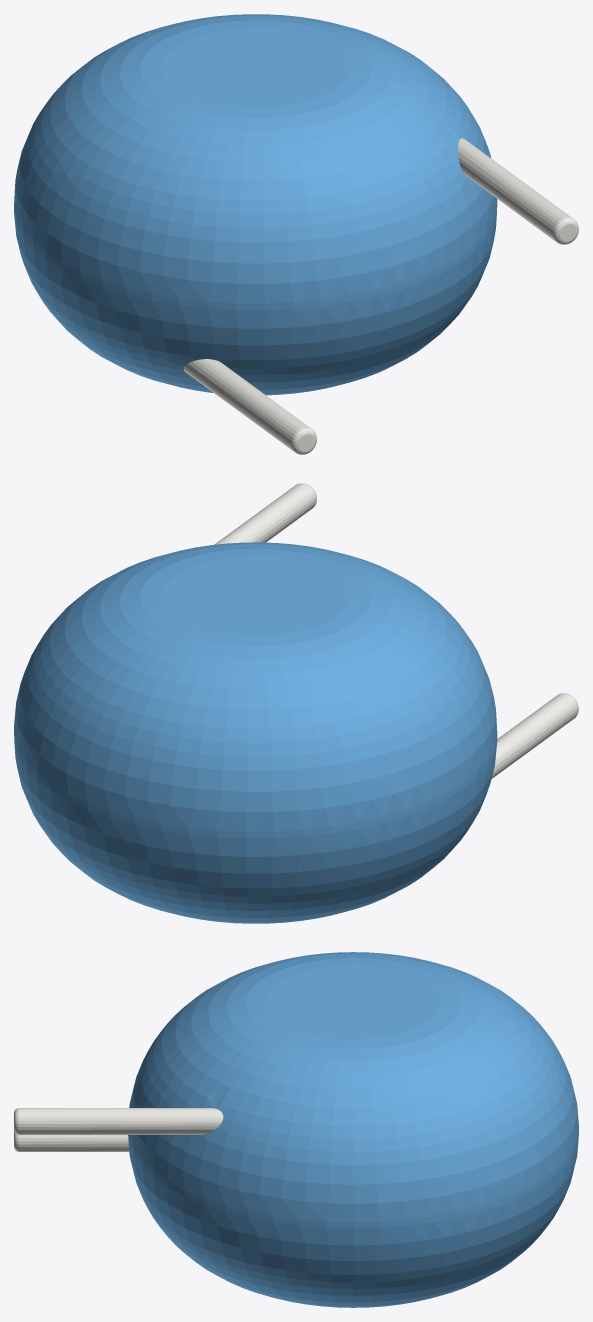
The model's file is RV_Disc_D12mm_W7.5mm_P7.5mm.glb.
3 renders of one model, top to bottom at view 1: azimuth 30°, elevation 25°; view 2: azimuth 150°, elevation 25°; view 3: azimuth 270°, elevation 25°, orthographic. The views are drawn at different scales.
Parts seen in each view (by area): view 1: Shape_IndexedFaceSet.001, Shape_IndexedFaceSet.002, Shape_IndexedFaceSet.003, Shape_IndexedFaceSet.006, Shape_IndexedFaceSet.004, Shape_IndexedFaceSet; view 2: Shape_IndexedFaceSet.001, Shape_IndexedFaceSet.002, Shape_IndexedFaceSet.003, Shape_IndexedFaceSet, Shape_IndexedFaceSet.006, Shape_IndexedFaceSet.004; view 3: Shape_IndexedFaceSet.001, Shape_IndexedFaceSet.002, Shape_IndexedFaceSet.003, Shape_IndexedFaceSet.004, Shape_IndexedFaceSet, Shape_IndexedFaceSet.006.
Part boxes in pixels (box(x1,y1,x2,y2)): Shape_IndexedFaceSet.001: box(14, 14, 497, 303); Shape_IndexedFaceSet.002: box(14, 213, 496, 395); Shape_IndexedFaceSet.003: box(161, 28, 349, 107); Shape_IndexedFaceSet.006: box(183, 359, 309, 451); Shape_IndexedFaceSet.004: box(457, 138, 571, 241); Shape_IndexedFaceSet: box(14, 201, 497, 310); Shape_IndexedFaceSet.001: box(14, 542, 497, 831); Shape_IndexedFaceSet.002: box(14, 741, 497, 923); Shape_IndexedFaceSet.003: box(161, 556, 349, 635); Shape_IndexedFaceSet: box(14, 729, 497, 838); Shape_IndexedFaceSet.006: box(491, 693, 577, 778); Shape_IndexedFaceSet.004: box(214, 483, 316, 544); Shape_IndexedFaceSet.001: box(129, 952, 578, 1222); Shape_IndexedFaceSet.002: box(128, 1134, 578, 1307); Shape_IndexedFaceSet.003: box(265, 965, 441, 1039); Shape_IndexedFaceSet.004: box(19, 1108, 223, 1134); Shape_IndexedFaceSet: box(128, 1128, 578, 1228); Shape_IndexedFaceSet.006: box(19, 1135, 129, 1151).
Bounding box in the file's own units: 4.72 × 2.95 × 5.92.
